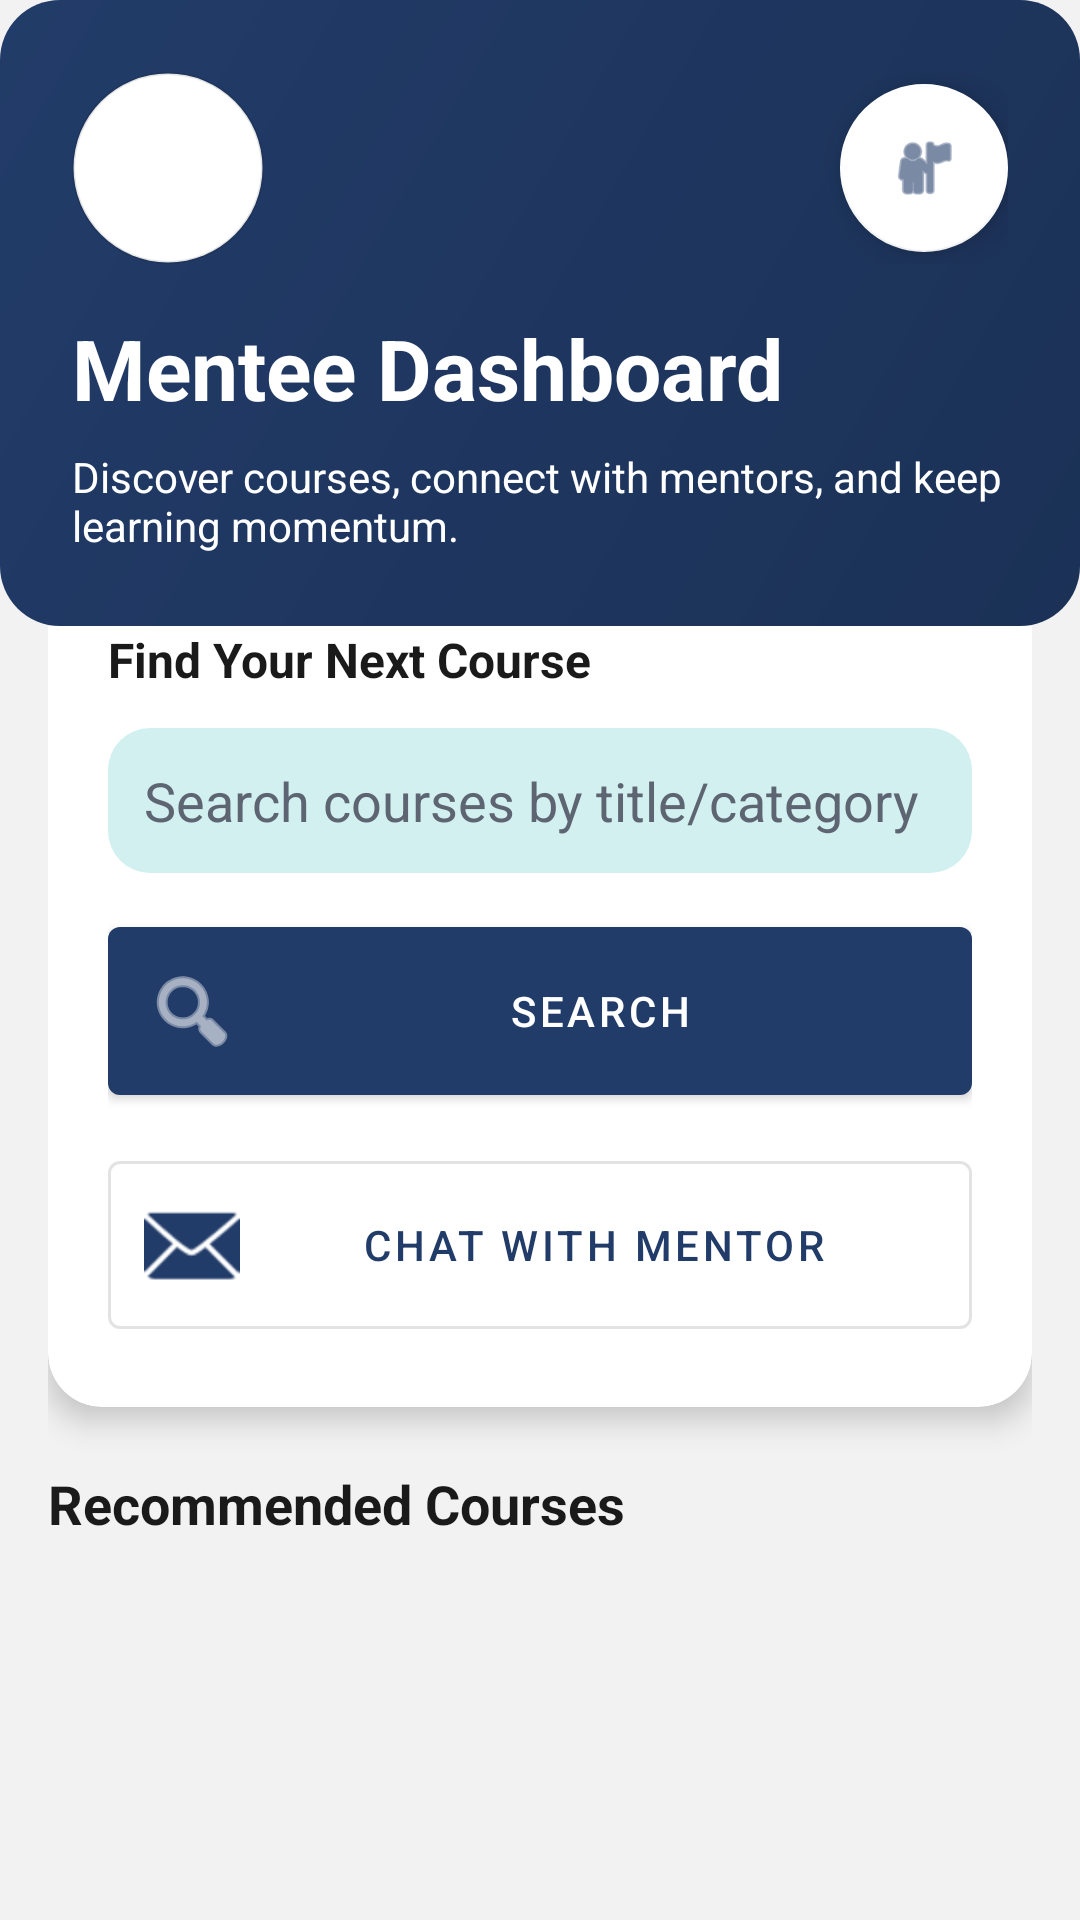

Icons on this 1080×1920 Android screen, each with its box as (x1, y1, x2, y2):
Profile: (840, 84, 1008, 252)
